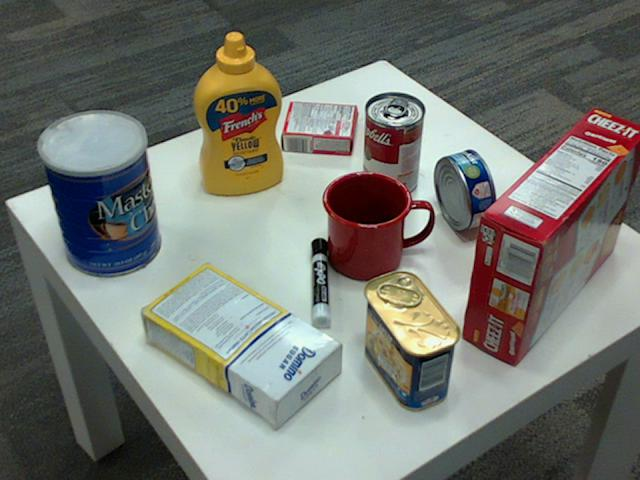cracker_box: (460, 107, 639, 364)
gelatin_box: (282, 100, 358, 152)
large_marker: (310, 239, 329, 333)
master_chef_can: (35, 110, 158, 277)
mug: (321, 168, 430, 277)
mustard_bottle: (193, 32, 283, 194)
potted_meat_can: (361, 271, 461, 410)
sugar_box: (136, 260, 339, 424)
tomato_soup_can: (362, 93, 424, 197)
tuna_fish_can: (433, 149, 494, 229)
